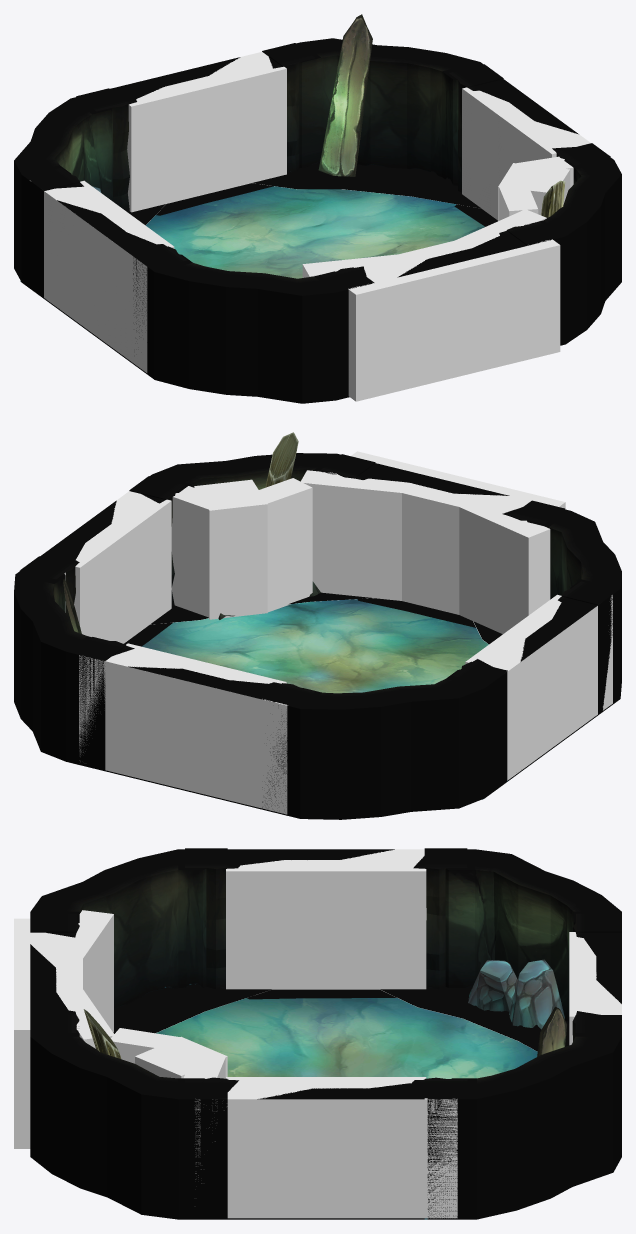
File: Dungeon_073_StartRoom_001_003.fbx
3 views of the same model, one above another, from view 1: azimuth 30°, elevation 25°; view 2: azimuth 150°, elevation 25°; view 3: azimuth 270°, elevation 25° (orthographic). The views are drawn at different scales.
Visible parts, largest first — view 1: Dun_073_StartRoom_001_wall, DoorWay_NavMask (3) (×3), DoorWay_NavMask (1) (×4), Dun_073_StartRoom_001_ground, Dun_073_Door_002 (×4), Dun_073_OB_Rubble, Dun_073_StartRoom_001_shadow, DoorWay_NavMask (2) (×2), DoorWay_NavMask (5), DoorWay_NavMask (4), Dun_073_Door_002_shadow, DoorWay_NavMask (7) (+1 smaller); view 2: Dun_073_StartRoom_001_wall, DoorWay_NavMask (1) (×4), DoorWay_NavMask (3) (×4), Dun_073_StartRoom_001_ground, Dun_073_Door_002 (×4), DoorWay_NavMask (2) (×4), DoorWay_NavMask (4), DoorWay_NavMask (5), DoorWay_NavMask (7), DoorWay_NavMask (6), Dun_073_OB_Rubble, Dun_073_StartRoom_001_shadow (+1 smaller); view 3: Dun_073_StartRoom_001_wall, DoorWay_NavMask (1) (×3), DoorWay_NavMask (3) (×3), Dun_073_StartRoom_001_ground, Dun_073_Door_002 (×4), Dun_073_StartRoom_001_shadow, DoorWay_NavMask (2) (×3), Dun_073_OB_Stone01, DoorWay_NavMask (5), Dun_073_OB_Rubble, DoorWay_NavMask (4), Dun_073_Door_002_shadow (+2 smaller).
Boxes of the visible parts, x1=… form: Dun_073_StartRoom_001_wall: x1=14, y1=38, x2=621, y2=403; DoorWay_NavMask (3) (×3): x1=30, y1=52, x2=560, y2=401; DoorWay_NavMask (1) (×4): x1=44, y1=54, x2=561, y2=357; Dun_073_StartRoom_001_ground: x1=20, y1=186, x2=484, y2=281; Dun_073_Door_002 (×4): x1=25, y1=43, x2=610, y2=363; Dun_073_OB_Rubble: x1=318, y1=14, x2=565, y2=217; Dun_073_StartRoom_001_shadow: x1=127, y1=162, x2=481, y2=225; DoorWay_NavMask (2) (×2): x1=223, y1=57, x2=419, y2=277; DoorWay_NavMask (5): x1=498, y1=163, x2=570, y2=221; DoorWay_NavMask (4): x1=446, y1=209, x2=546, y2=250; Dun_073_Door_002_shadow: x1=156, y1=183, x2=273, y2=215; DoorWay_NavMask (7): x1=499, y1=184, x2=538, y2=220; Dun_073_StartRoom_001_wall: x1=14, y1=453, x2=621, y2=819; DoorWay_NavMask (1) (×4): x1=74, y1=479, x2=597, y2=807; DoorWay_NavMask (3) (×4): x1=79, y1=451, x2=612, y2=814; Dun_073_StartRoom_001_ground: x1=142, y1=599, x2=507, y2=799; Dun_073_Door_002 (×4): x1=20, y1=454, x2=616, y2=809; DoorWay_NavMask (2) (×4): x1=114, y1=494, x2=550, y2=667; DoorWay_NavMask (4): x1=300, y1=470, x2=421, y2=600; DoorWay_NavMask (5): x1=194, y1=479, x2=267, y2=619; DoorWay_NavMask (7): x1=256, y1=478, x2=312, y2=612; DoorWay_NavMask (6): x1=171, y1=486, x2=228, y2=617; Dun_073_OB_Rubble: x1=63, y1=432, x2=298, y2=633; Dun_073_StartRoom_001_shadow: x1=150, y1=592, x2=502, y2=644; Dun_073_StartRoom_001_wall: x1=30, y1=849, x2=621, y2=1219; DoorWay_NavMask (1) (×3): x1=226, y1=849, x2=621, y2=1218; DoorWay_NavMask (3) (×3): x1=14, y1=849, x2=457, y2=1218; Dun_073_StartRoom_001_ground: x1=156, y1=984, x2=537, y2=1219; Dun_073_Door_002 (×4): x1=30, y1=848, x2=621, y2=1219; Dun_073_StartRoom_001_shadow: x1=113, y1=984, x2=569, y2=1051; DoorWay_NavMask (2) (×3): x1=77, y1=851, x2=426, y2=1095; Dun_073_OB_Stone01: x1=468, y1=959, x2=564, y2=1029; DoorWay_NavMask (5): x1=135, y1=1036, x2=227, y2=1078; Dun_073_OB_Rubble: x1=83, y1=1006, x2=566, y2=1058; DoorWay_NavMask (4): x1=56, y1=982, x2=114, y2=1048; Dun_073_Door_002_shadow: x1=247, y1=989, x2=396, y2=999.
Size of what is drawn, in the model's own units: 9 by 2.89 by 9.25.
